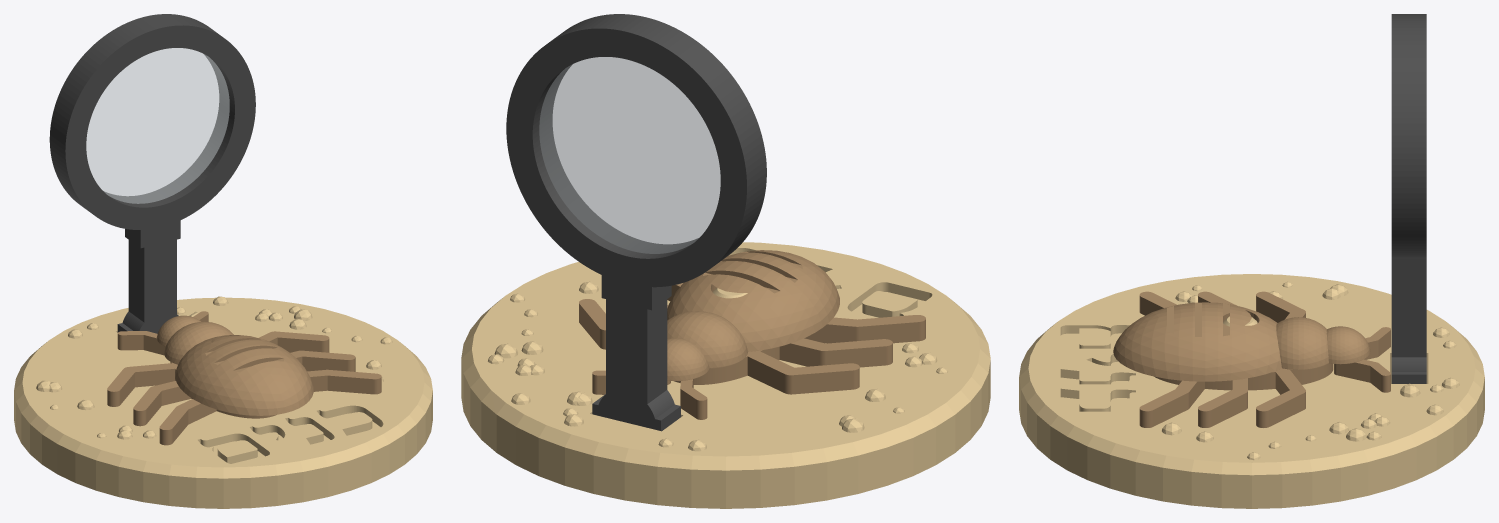
File: lice.glb
3 views of the same model, side by side, from view 1: azimuth 30°, elevation 25°; view 2: azimuth 150°, elevation 25°; view 3: azimuth 270°, elevation 25° (orthographic). The views are drawn at different scales.
Parts seen in each view (by area): view 1: stage, glass, glass--lens, louse, legs; view 2: stage, glass, glass--lens, louse, legs; view 3: stage, louse, glass, legs.
Part boxes in pixels (x1,y1,x2,y2): stage: (14, 296, 432, 508); glass: (49, 14, 255, 333); glass--lens: (86, 48, 229, 203); louse: (156, 315, 313, 415); legs: (107, 311, 381, 445); stage: (461, 242, 990, 508); glass: (506, 14, 766, 431); glass--lens: (539, 57, 720, 253); louse: (667, 250, 839, 380); legs: (579, 283, 925, 419); stage: (1019, 274, 1484, 508); louse: (1113, 302, 1370, 381); glass: (1391, 14, 1426, 383); legs: (1139, 291, 1390, 427).
Size of the model in its own units: 40 by 36.5 by 40.
